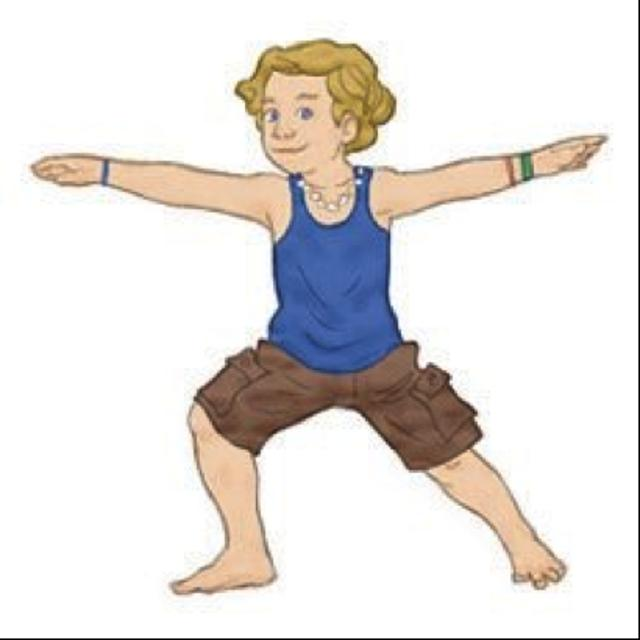Warrior_II: (26, 34, 610, 601)
